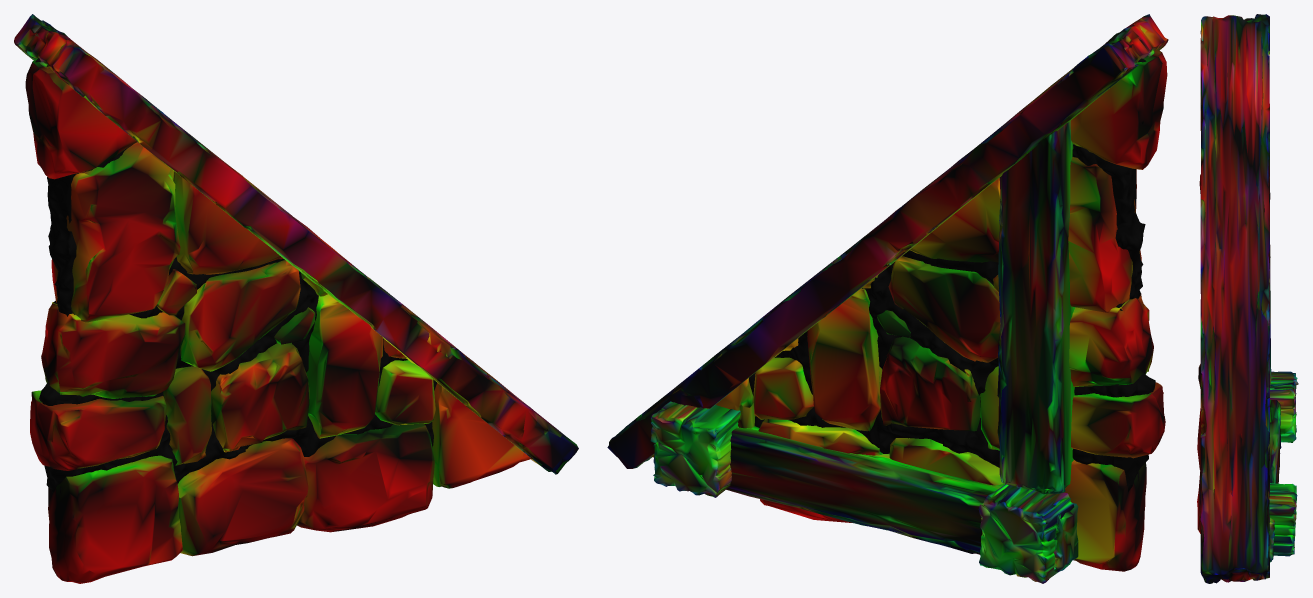
The model's file is SM_Wall_Tri_R.fbx.
The picture shows the model from 3 angles, left to right: view 1: azimuth 30°, elevation 25°; view 2: azimuth 150°, elevation 25°; view 3: azimuth 270°, elevation 25°; orthographic projection. The views are drawn at different scales.
Visible parts, largest first — view 1: SM_Wall_Tri_R_LOD0; view 2: SM_Wall_Tri_R_LOD0; view 3: SM_Wall_Tri_R_LOD0.
Part boxes in pixels (x1=…): SM_Wall_Tri_R_LOD0: x1=14, y1=14, x2=578, y2=583; SM_Wall_Tri_R_LOD0: x1=607, y1=14, x2=1168, y2=583; SM_Wall_Tri_R_LOD0: x1=1197, y1=14, x2=1298, y2=583.
Size of the model in its own units: 323 by 73.89 by 324.
